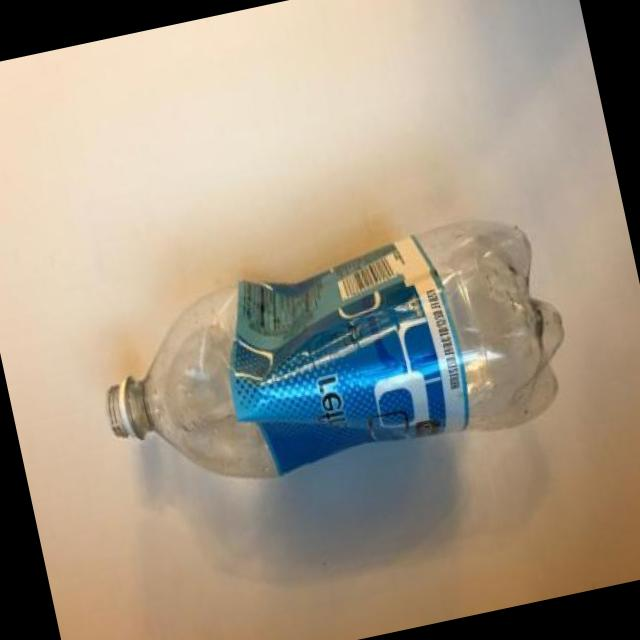plastic_bottle: (85, 205, 583, 510)
